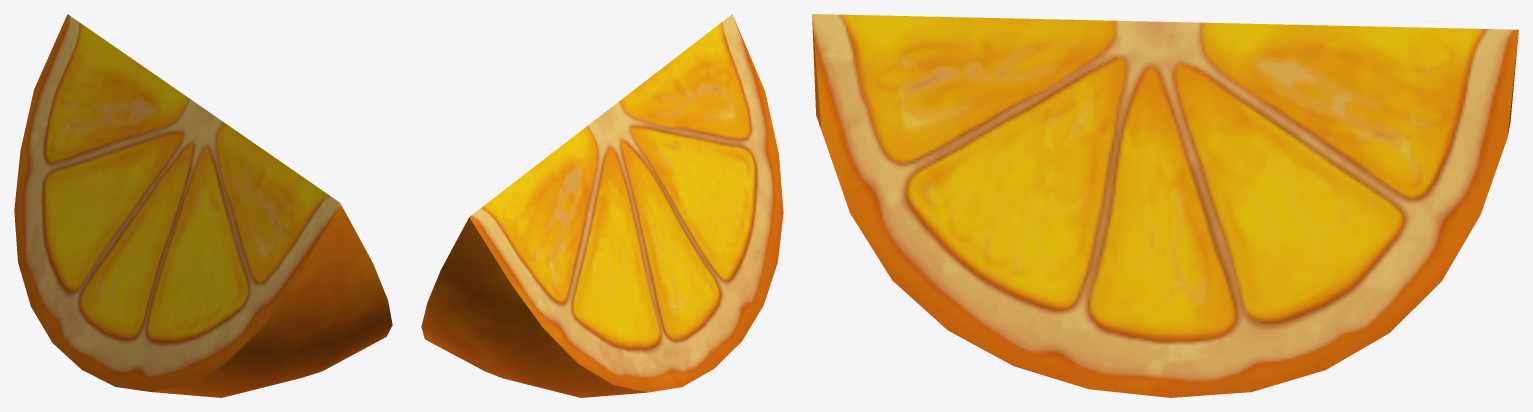
File: SM_OrangeSlice.fbx
The picture shows the model from 3 angles, left to right: view 1: azimuth 30°, elevation 25°; view 2: azimuth 150°, elevation 25°; view 3: azimuth 270°, elevation 25°; orthographic projection. The views are drawn at different scales.
Parts seen in each view (by area): view 1: SM_OrangeSlice; view 2: SM_OrangeSlice; view 3: SM_OrangeSlice.
Part boxes in pixels (x1=…): SM_OrangeSlice: x1=14, y1=14, x2=392, y2=397; SM_OrangeSlice: x1=421, y1=14, x2=783, y2=397; SM_OrangeSlice: x1=812, y1=14, x2=1518, y2=397.
Size of the model in its own units: 8.54 by 9.09 by 16.95.
